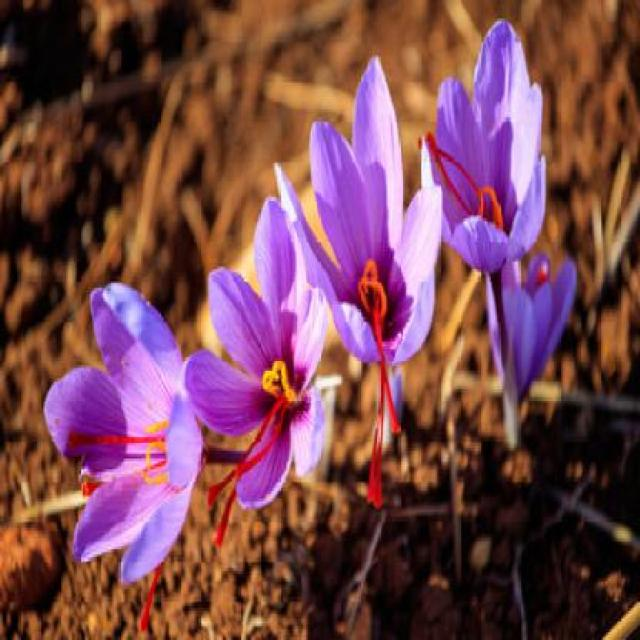Flower: (294, 96, 435, 396), (49, 294, 205, 564), (191, 224, 332, 498), (430, 46, 553, 262), (486, 264, 608, 459)
stigma: (212, 397, 297, 555), (202, 395, 294, 511), (367, 284, 388, 508), (370, 306, 405, 437), (424, 128, 474, 219), (415, 130, 480, 188), (133, 558, 170, 634), (473, 180, 509, 232), (65, 432, 176, 448)
